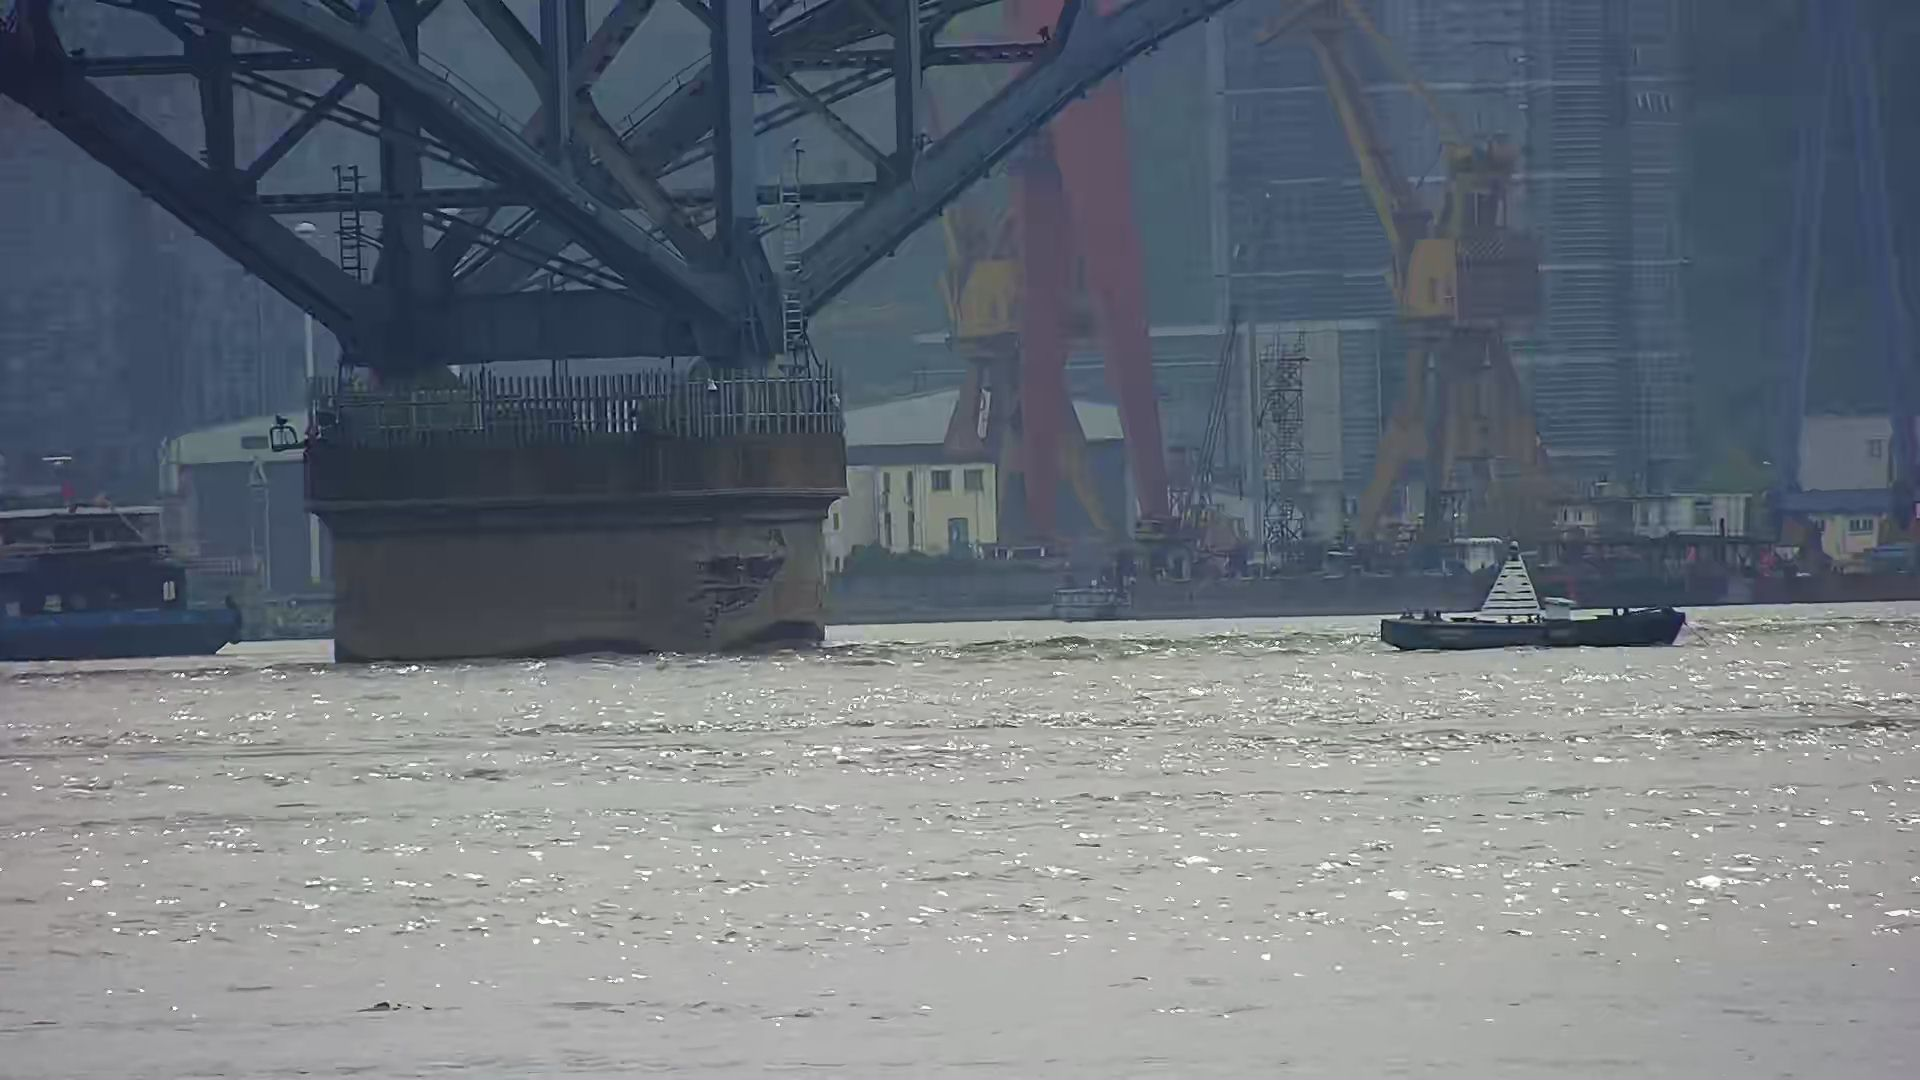boat: (1366, 529, 1700, 666)
bridge: (1, 1, 1236, 665)
ship: (1, 431, 262, 676)
